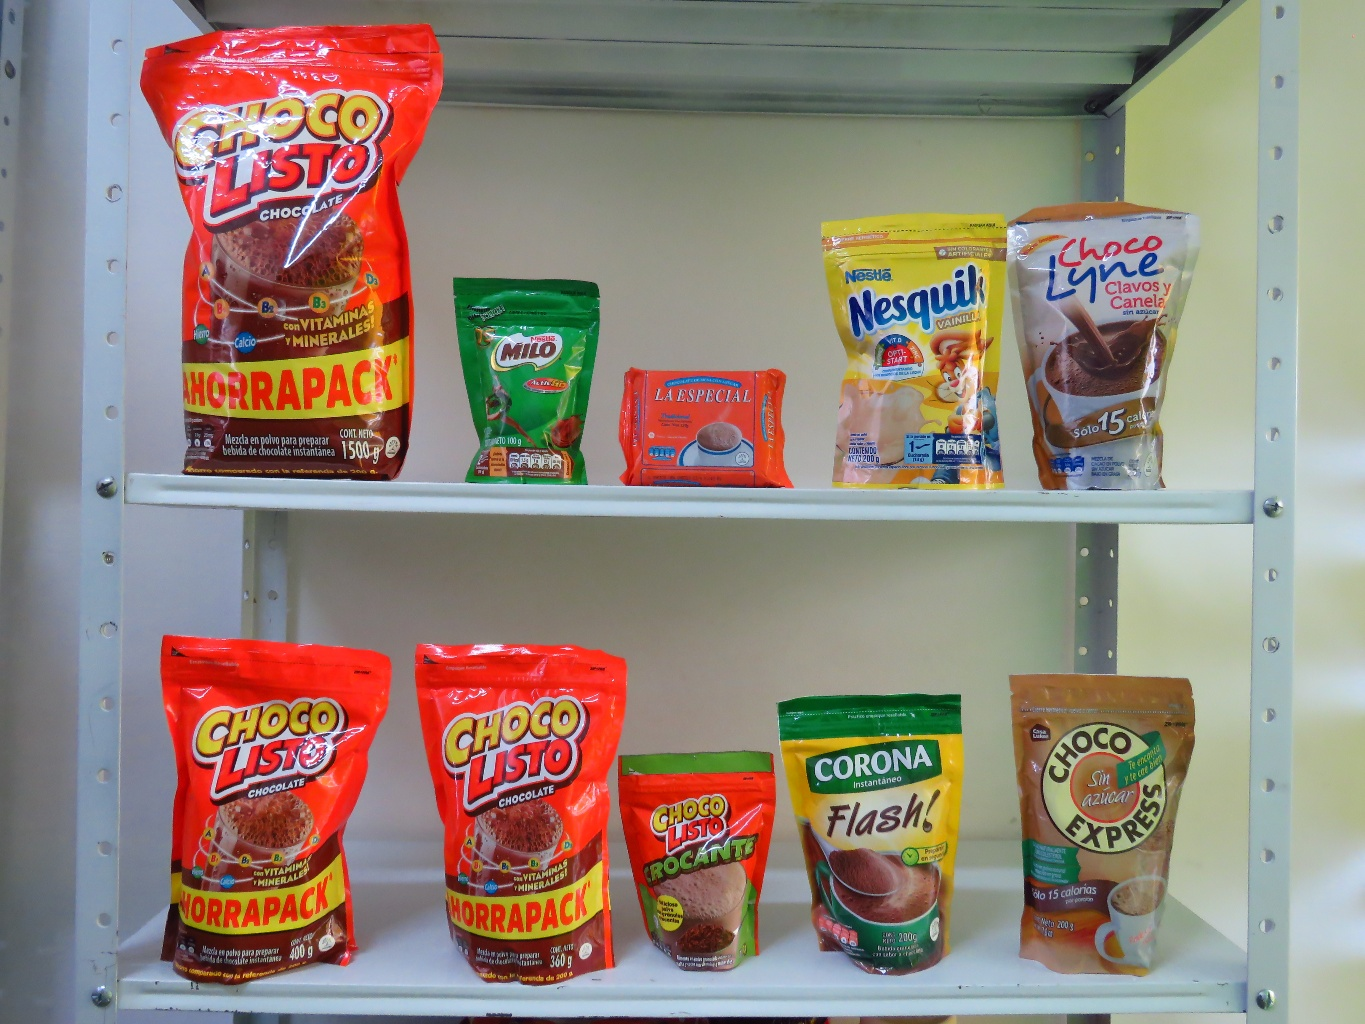COL0170102DYP10000: (600, 731, 793, 985)
COL0170103DYP1,500: (108, 3, 461, 487)
COL0170103DYP36000: (402, 627, 641, 989)
COL0170103DYP40000: (141, 616, 392, 990)
COL0170203DYP10000: (449, 266, 618, 488)
COL0170306DYP20000: (796, 196, 1032, 498)
